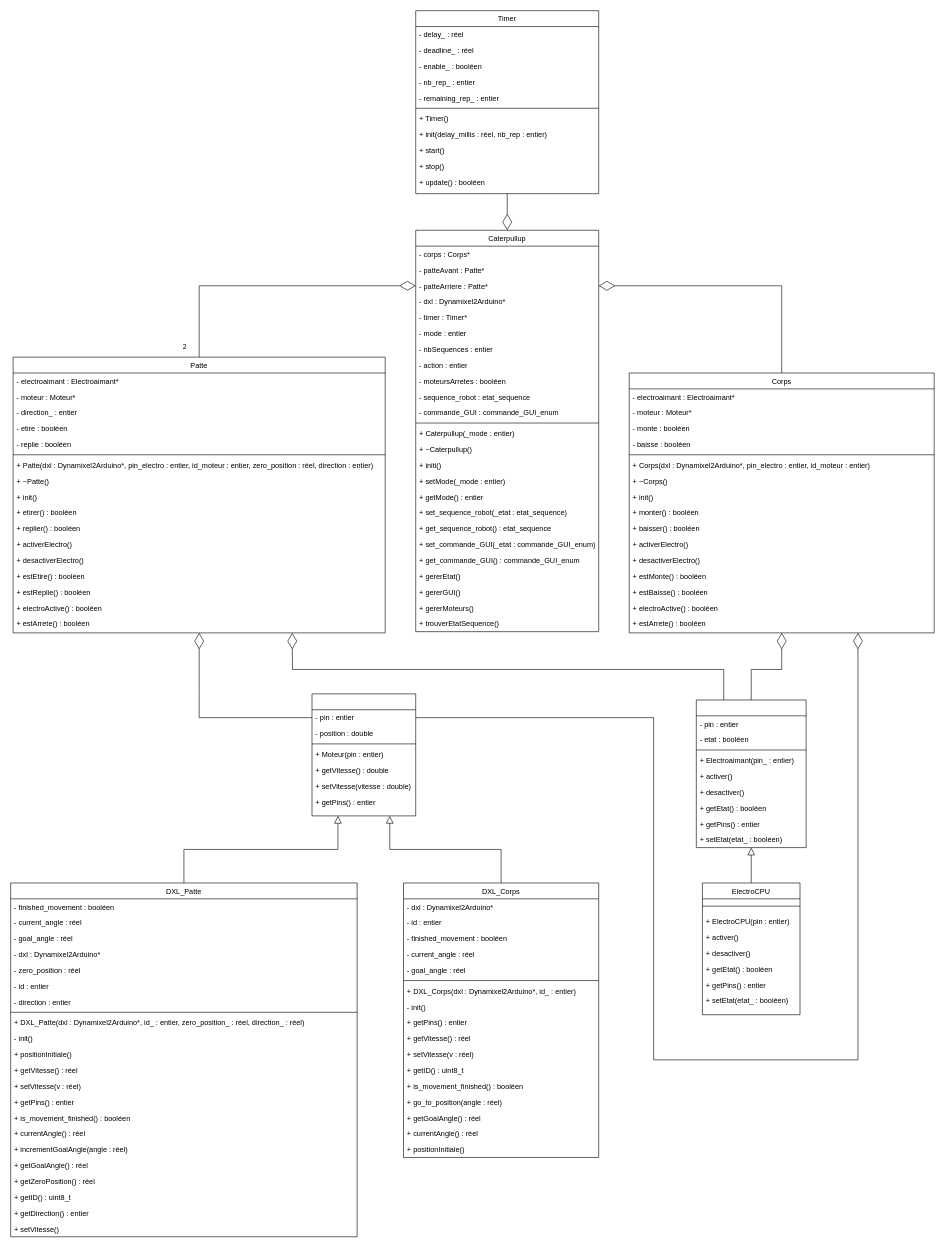
The diagram is 945 pixels wide and 1249 high, and some of its shapes have lost their labels. The box of each missing label's shape, as (x1, y1, x2, y2) in pixels:
Electroaimant (abstract): (696, 699, 806, 848)
Moteur (abstract): (311, 693, 416, 816)
